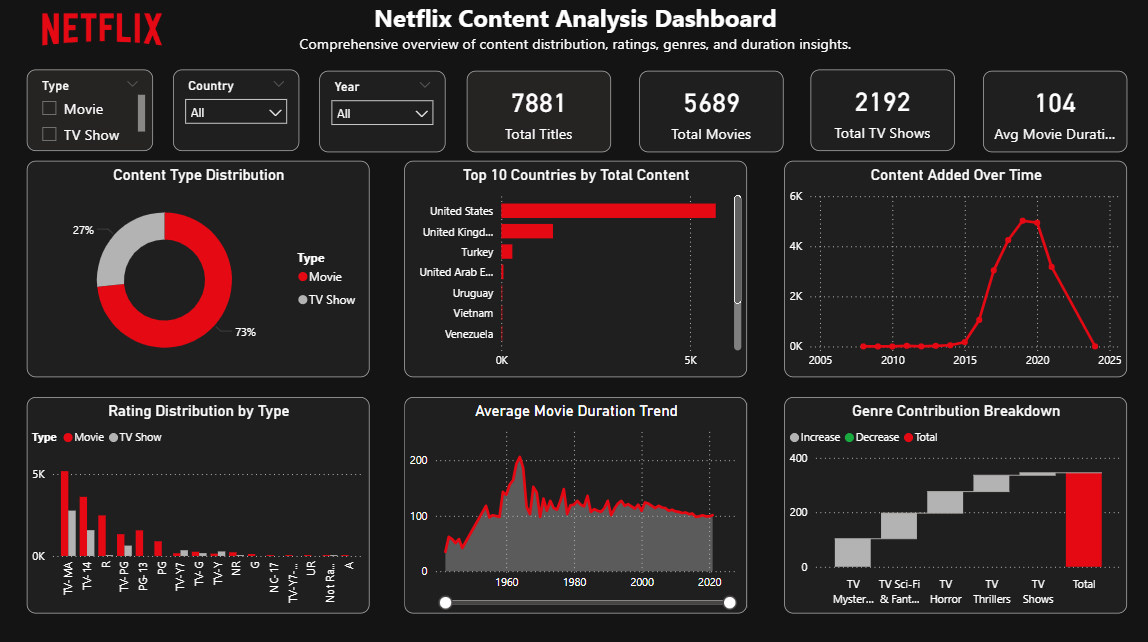

The page's visual inventory and layout, read from the dashboard file:
{"tool":"powerbi","page":{"name":"Netflix 1","canvas":[1280,720],"ordinal":0},"visuals":[{"type":"textbox","box":[0,0,1280,81.2],"z":0},{"type":"card","fields":{"Values":["Sheet1.Total Titles"]},"box":[520,81.2,160,90],"z":1000},{"type":"donutChart","title":"Content Type Distribution","fields":{"Category":["Sheet1.type"],"Y":["CountNonNull(Sheet1.show_id)"]},"box":[31.2,181.2,380,240],"z":2000},{"type":"clusteredBarChart","title":"Top 10 Countries by Total Content","fields":{"Category":["Sheet1.country"],"Y":["CountNonNull(Sheet1.show_id)"]},"box":[450,181.2,380,240],"z":3000},{"type":"clusteredColumnChart","title":"Rating Distribution by Type","fields":{"Series":["Sheet1.type"],"Category":["Sheet1.rating"],"Y":["CountNonNull(Sheet1.show_id)"]},"box":[31.2,443.8,380,240],"z":4000},{"type":"lineChart","title":"Content Added Over Time","fields":{"Category":["Sheet1.year_added"],"Y":["CountNonNull(Sheet1.show_id)"]},"box":[871.2,181.2,380,240],"z":5000},{"type":"areaChart","title":"Average Movie Duration Trend","fields":{"Category":["Sheet1.release_year"],"Y":["Sheet1.Avg Movie Duration"]},"box":[450,443.8,380,240],"z":6000},{"type":"waterfallChart","title":"Genre Contribution Breakdown","fields":{"Category":["Sheet1.listed_in"],"Y":["CountNonNull(Sheet1.show_id)"]},"box":[871.2,443.8,380,240],"z":7000},{"type":"slicer","fields":{"Values":["Sheet1.type"]},"box":[31.2,80,140,90],"z":8000},{"type":"image","box":[31.2,0,167.5,72.5],"z":9000},{"type":"card","fields":{"Values":["Sheet1.Total Movies"]},"box":[711.2,81.2,160,90],"z":10000},{"type":"card","fields":{"Values":["Sheet1.Total TV Shows"]},"box":[901.2,80,160,90],"z":11000},{"type":"card","fields":{"Values":["Sheet1.Avg Movie Duration"]},"box":[1091.2,81.2,160,90],"z":12000},{"type":"slicer","fields":{"Values":["Sheet1.country"]},"box":[193.8,80,140,90],"z":13000},{"type":"slicer","fields":{"Values":["Sheet1.year_added"]},"box":[356.2,81.2,140,90],"z":14000}]}

Visuals, with their boxes in screenshot pixels (x1, y1, x2, y2), scaled from the page's 1280x720 canvas onto the 1148x642 screenshot:
textbox: detection(0, 0, 1147, 72)
card - Sheet1.Total Titles: detection(466, 72, 610, 153)
"Content Type Distribution" donutChart: detection(28, 162, 369, 376)
"Top 10 Countries by Total Content" clusteredBarChart: detection(404, 162, 744, 376)
"Rating Distribution by Type" clusteredColumnChart: detection(28, 396, 369, 610)
"Content Added Over Time" lineChart: detection(781, 162, 1122, 376)
"Average Movie Duration Trend" areaChart: detection(404, 396, 744, 610)
"Genre Contribution Breakdown" waterfallChart: detection(781, 396, 1122, 610)
slicer - Sheet1.type: detection(28, 71, 154, 152)
image: detection(28, 0, 178, 65)
card - Sheet1.Total Movies: detection(638, 72, 781, 153)
card - Sheet1.Total TV Shows: detection(808, 71, 952, 152)
card - Sheet1.Avg Movie Duration: detection(979, 72, 1122, 153)
slicer - Sheet1.country: detection(174, 71, 299, 152)
slicer - Sheet1.year_added: detection(319, 72, 445, 153)
